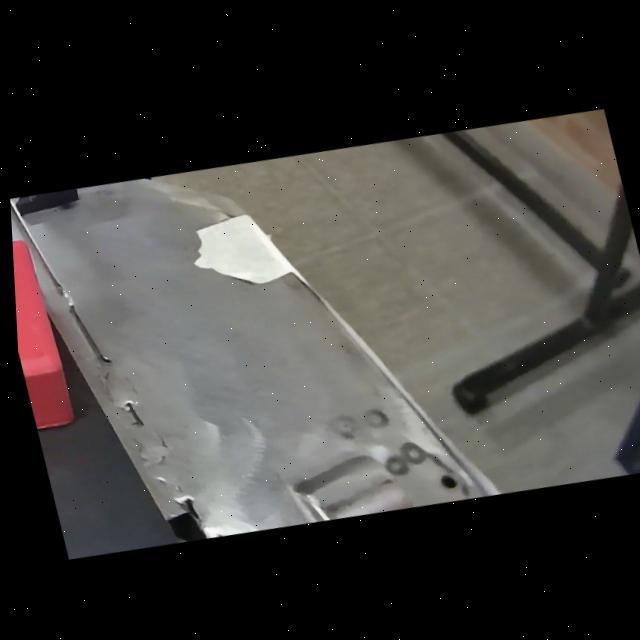redBox: (9, 228, 86, 442)
